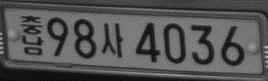0: (163, 22, 186, 64)
3: (190, 24, 214, 65)
4: (135, 22, 160, 63)
6: (221, 25, 245, 66)
8: (73, 18, 97, 58)
9: (47, 16, 68, 56)
사: (101, 22, 123, 57)
충남_V: (20, 14, 43, 55)
